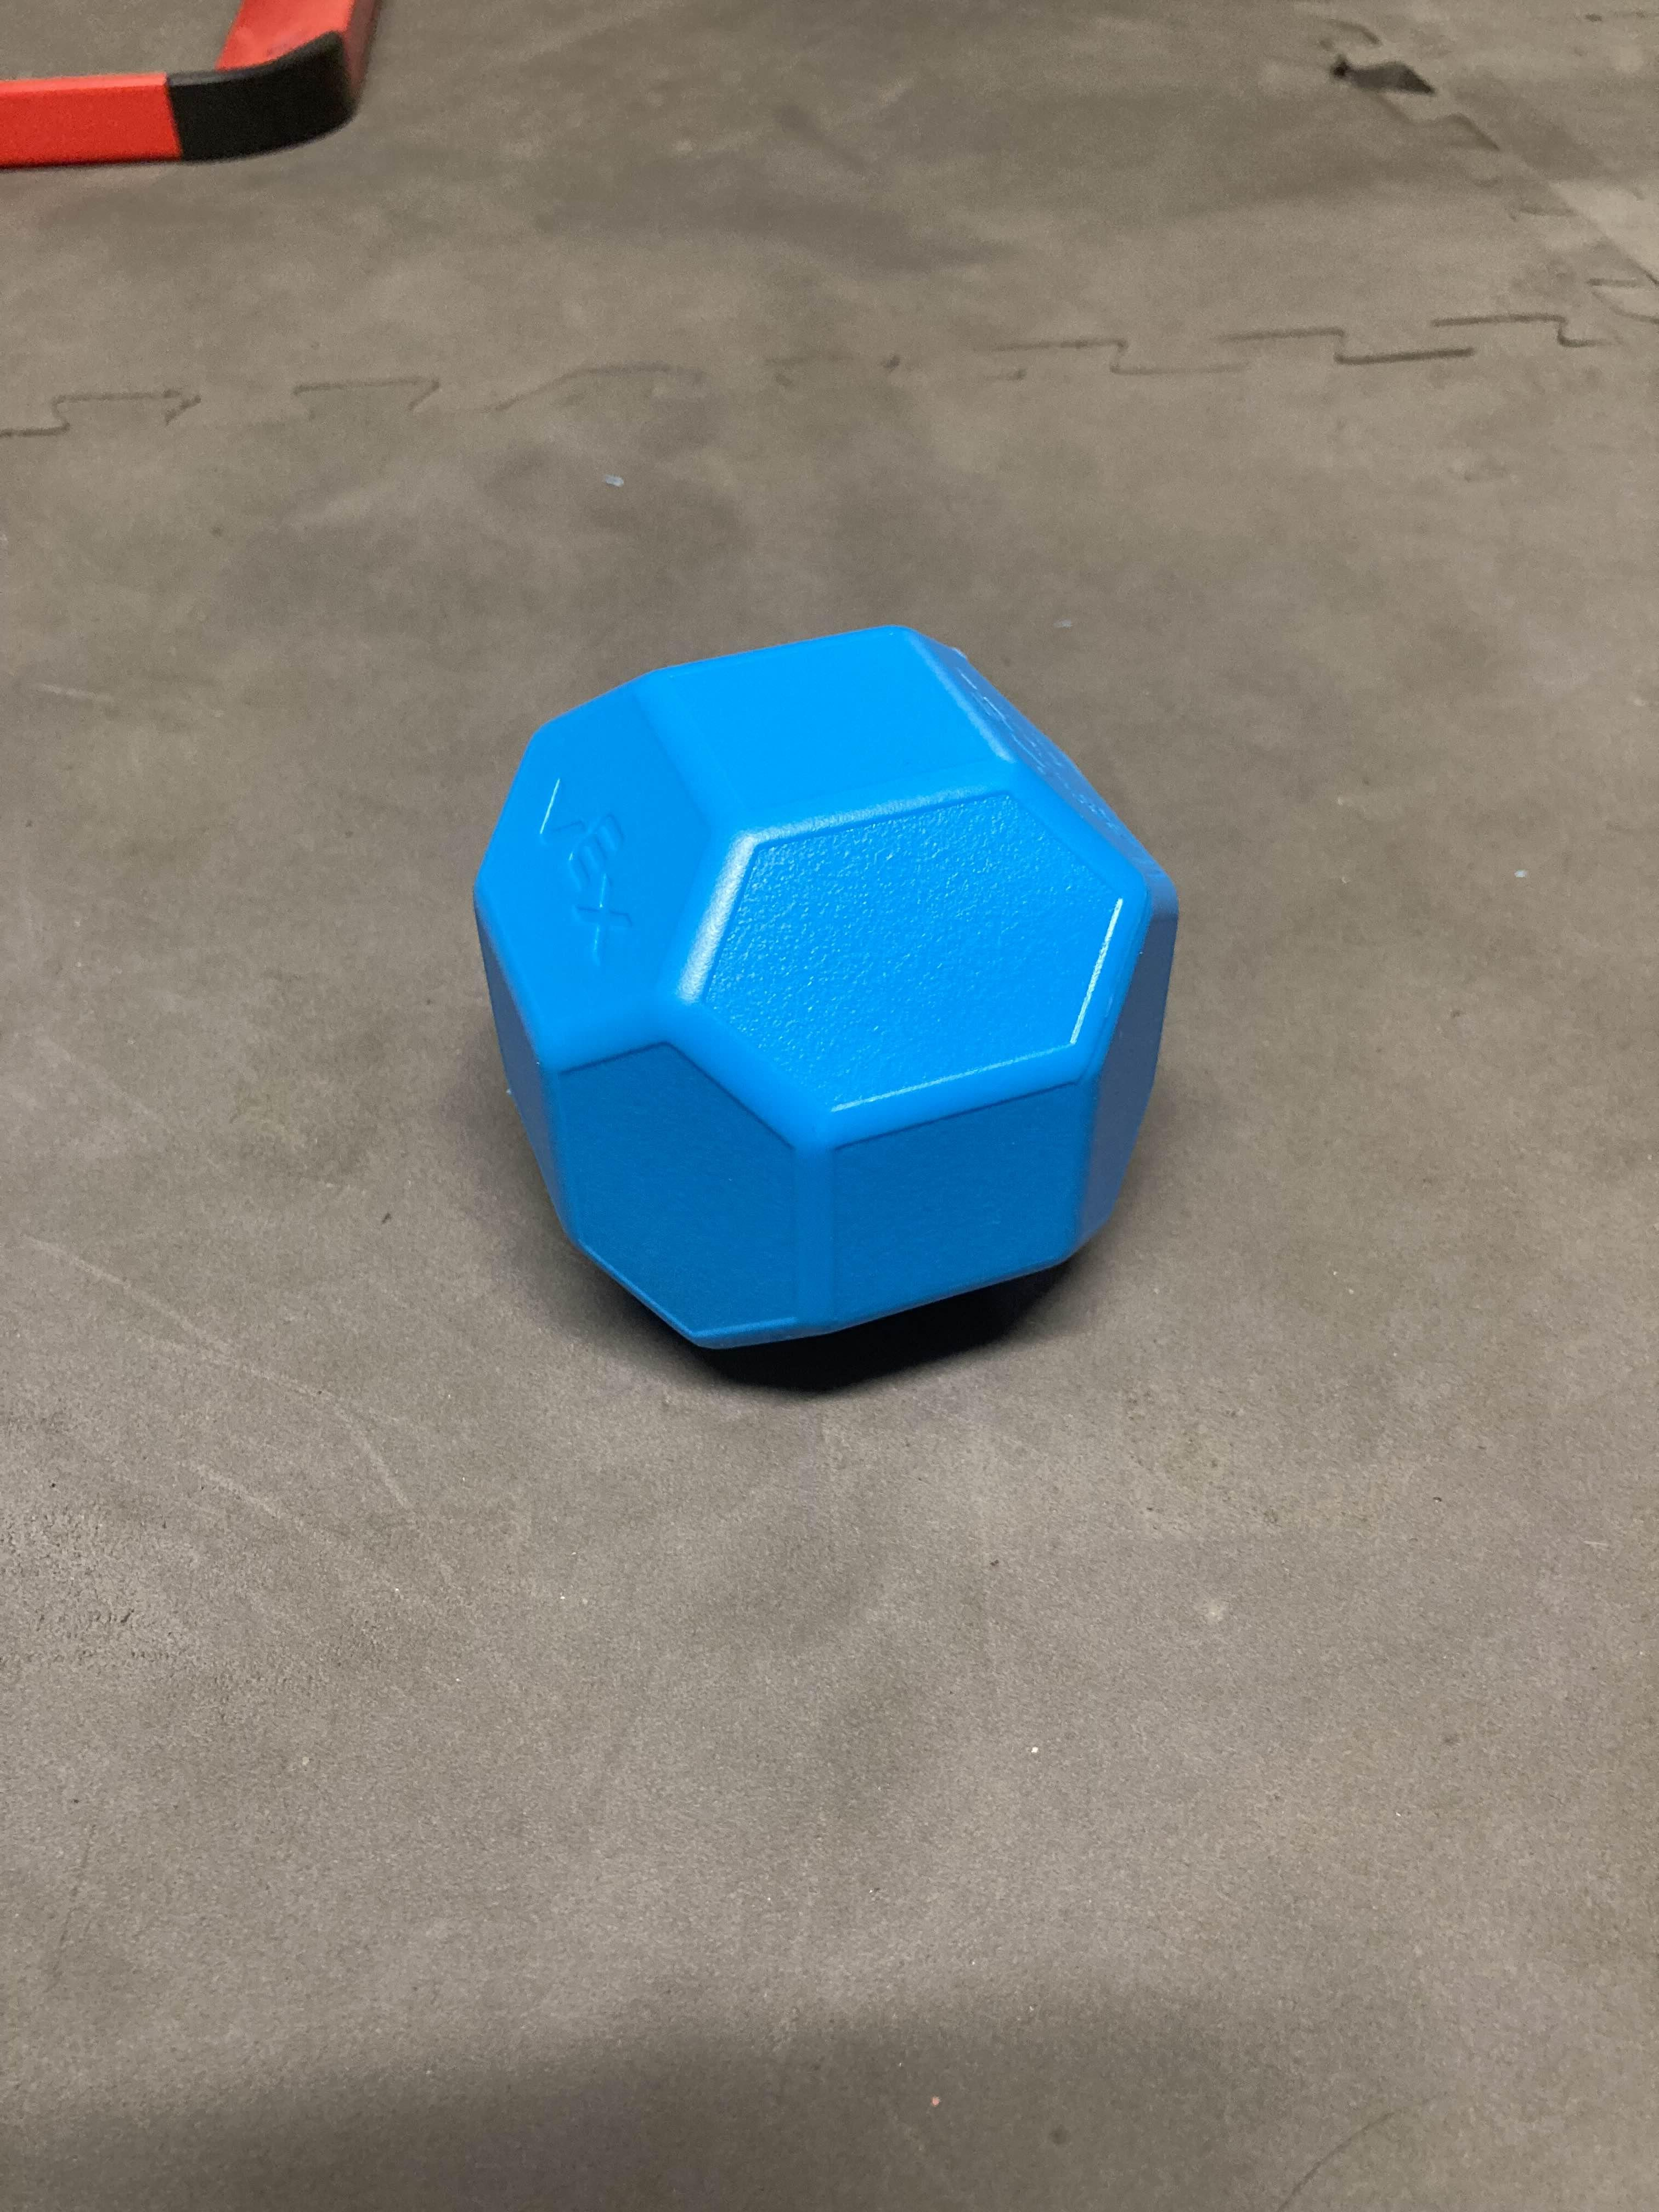Vex-Pieces-BLUE: (472, 624, 1182, 1364)
